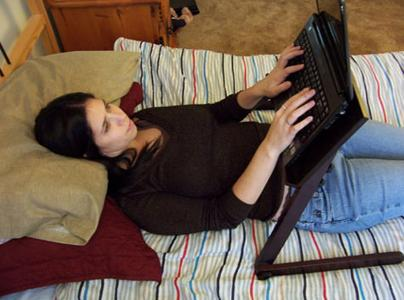person: (33, 46, 404, 235)
